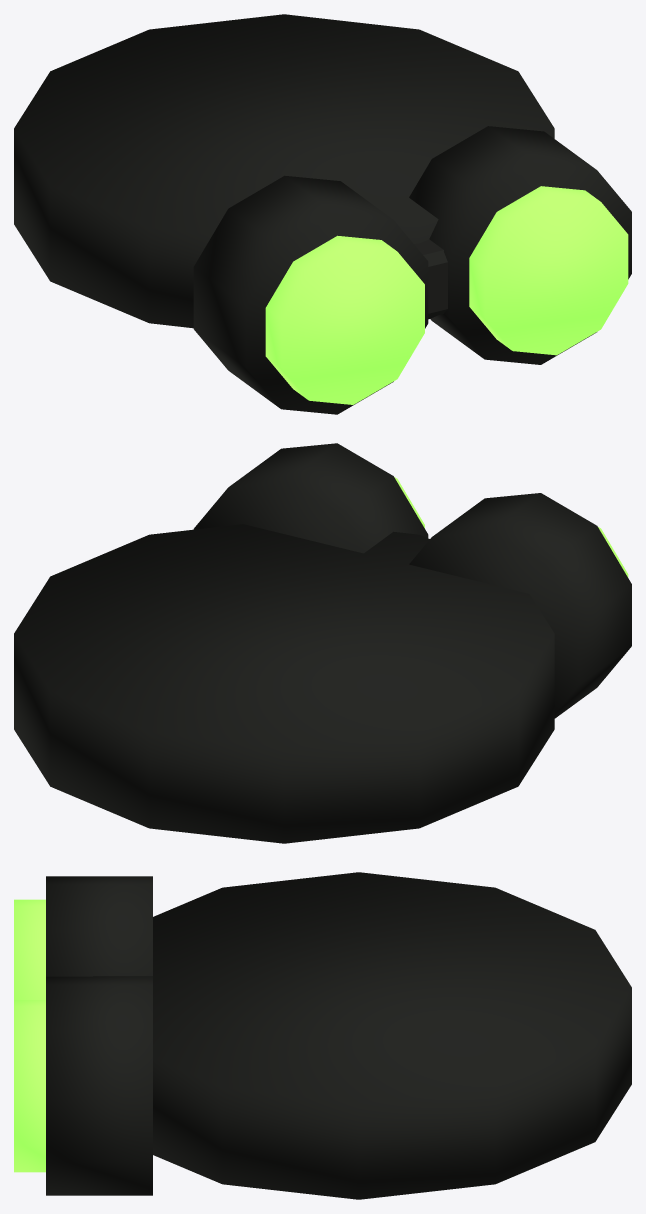
Rendered from goggles.glb.
3 views of the same model, one above another, from view 1: azimuth 30°, elevation 25°; view 2: azimuth 150°, elevation 25°; view 3: azimuth 270°, elevation 25° (orthographic).
Parts seen in each view (by area): view 1: part.goggles; view 2: part.goggles; view 3: part.goggles.
Part boxes in pixels (x1,y1,x2,y2): part.goggles: (14,14,631,414); part.goggles: (14,443,631,843); part.goggles: (14,872,631,1199).
Size of the model in its own units: 0.23 by 0.094 by 0.2603.
